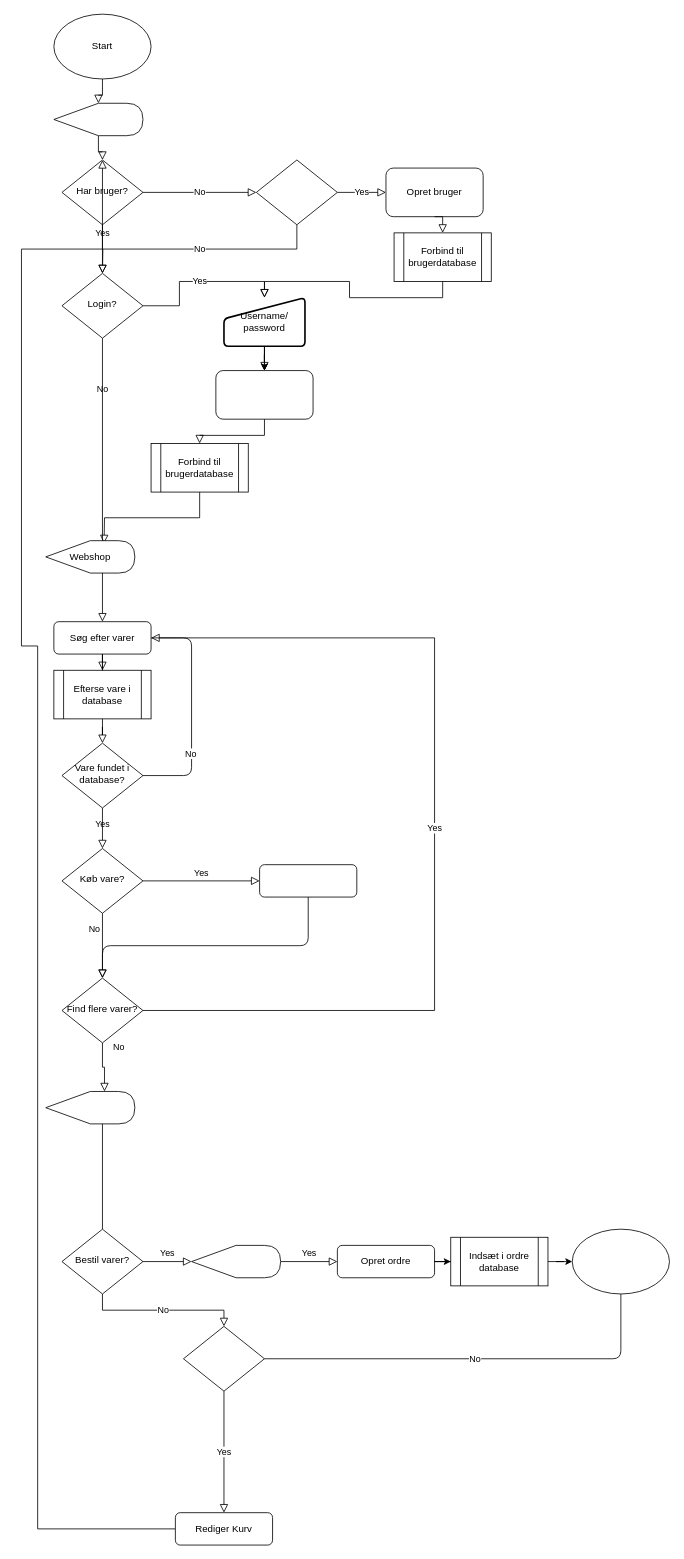
This 684x1559 diagram has some shape labels left out. Here are the shapes that lost their labels. From the top down, the centre of each, then its label:
point 98,119: Loginscreen
point 296,192: Opret Bruger?
point 264,394: Login
point 308,880: Put vare i kurv
point 90,1107: Indkøbskurv
point 236,1261: Kassen
point 620,1261: Slut
point 223,1358: Rediger kurg?
